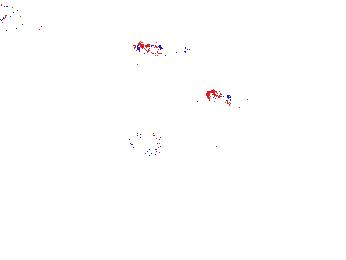X-ray fish: (1, 1, 38, 43)
red belly glassfish: (132, 39, 193, 58), (206, 88, 256, 111)
redtail glassfish: (127, 129, 163, 162)
